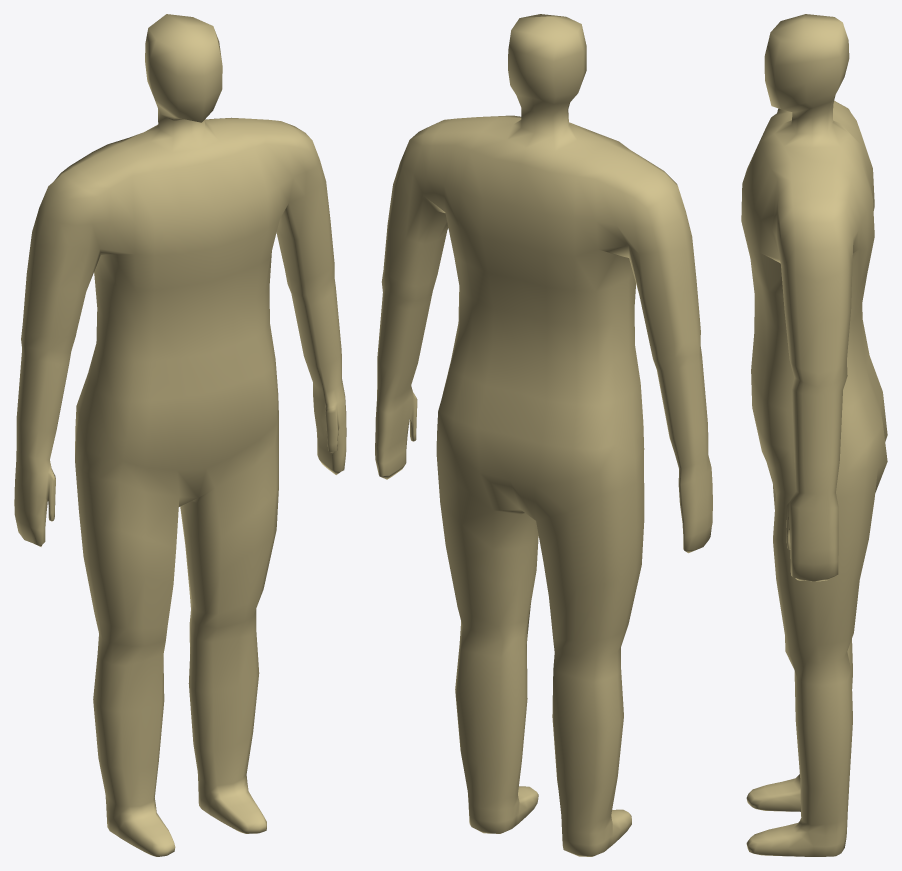
The model's file is Male.fbx.
3 renders of one model, left to right at view 1: azimuth 30°, elevation 25°; view 2: azimuth 150°, elevation 25°; view 3: azimuth 270°, elevation 25°, orthographic.
Visible parts, largest first — view 1: Male; view 2: Male; view 3: Male.
Boxes of the visible parts, x1,y1,x2,y2 form: Male: (14, 14, 346, 856); Male: (375, 14, 712, 856); Male: (741, 14, 887, 856).
Size of the model in its own units: 7.9 by 18.81 by 3.08.
